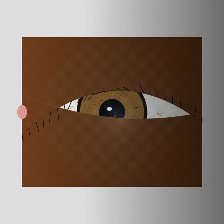pinguecula_lesion: (38, 103, 85, 141)
